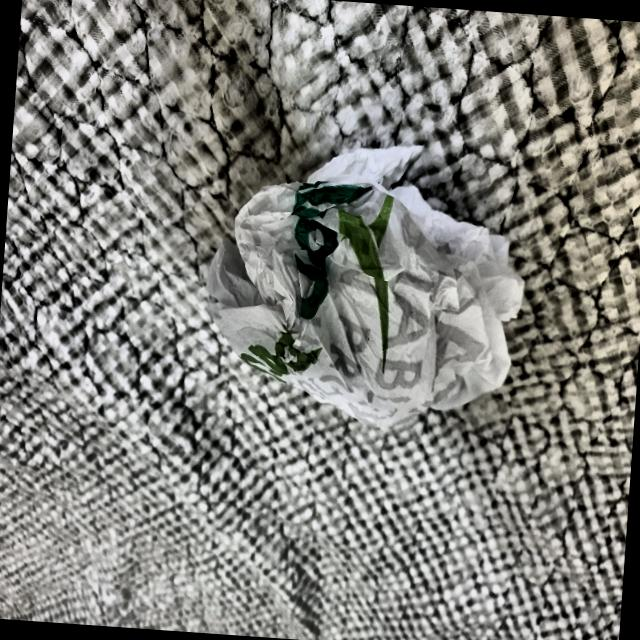plastic bag: (178, 126, 536, 444)
